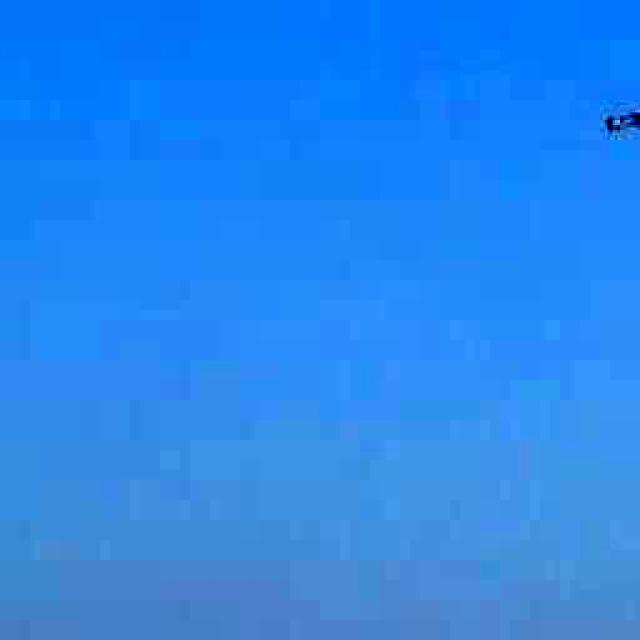bird: (576, 79, 640, 154)
